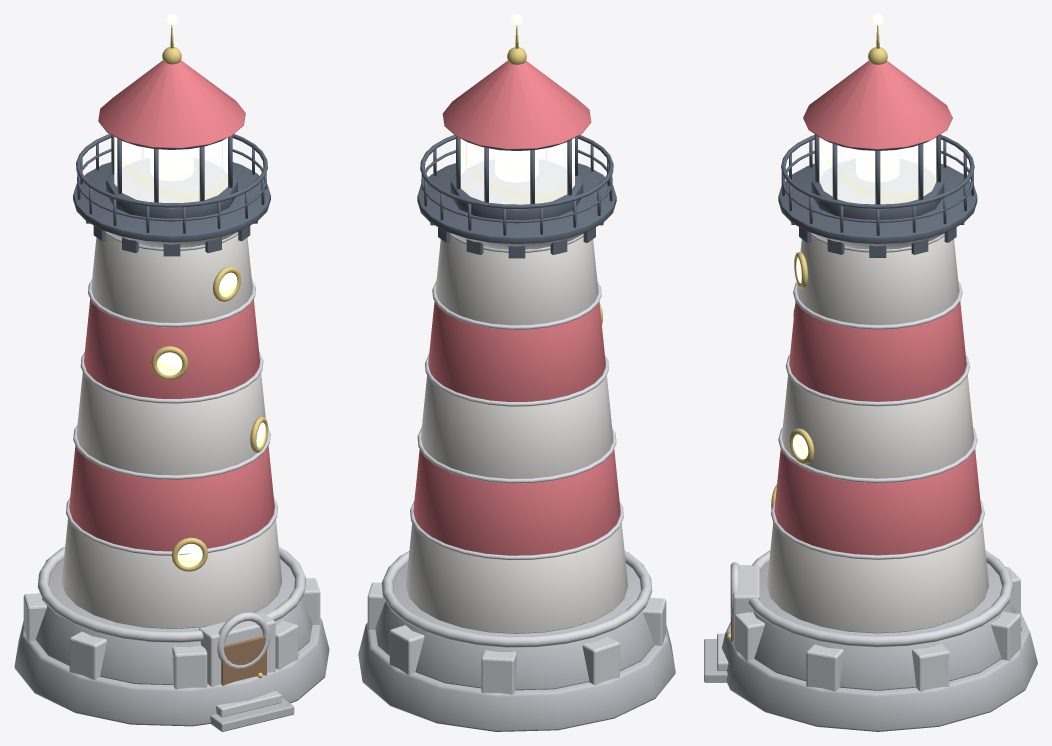
Rendered from hero_lighthouse.glb.
The picture shows the model from 3 angles, left to right: view 1: azimuth 30°, elevation 25°; view 2: azimuth 150°, elevation 25°; view 3: azimuth 270°, elevation 25°; orthographic projection.
Parts seen in each view (by area): view 1: Stripe_0, Stripe_1, Stripe_2, PlinthLow, Stripe_3, Stripe_4, CupolaDome, PlinthHigh, GalleryDeck, LanternGlass, PlinthCornice, DoorFrame (+19 smaller); view 2: Stripe_0, Stripe_1, Stripe_2, PlinthLow, Stripe_3, Stripe_4, PlinthHigh, CupolaDome, GalleryDeck, LanternGlass, PlinthCornice, LanternBase (+12 smaller); view 3: Stripe_0, Stripe_1, PlinthLow, Stripe_2, Stripe_3, Stripe_4, PlinthHigh, CupolaDome, LanternGlass, GalleryDeck, PlinthCornice, LanternBase (+13 smaller).
Boxes of the visible parts, x1,y1,x2,y2 form: Stripe_0: [61, 518, 282, 628]; Stripe_1: [69, 445, 274, 551]; Stripe_2: [76, 372, 265, 475]; PlinthLow: [14, 618, 329, 726]; Stripe_3: [84, 299, 259, 398]; Stripe_4: [91, 235, 252, 322]; CupolaDome: [98, 60, 245, 148]; PlinthHigh: [35, 559, 312, 684]; GalleryDeck: [73, 162, 270, 242]; LanternGlass: [114, 137, 227, 202]; PlinthCornice: [37, 546, 306, 642]; DoorFrame: [199, 613, 275, 687]; Stripe_0: [406, 523, 627, 633]; Stripe_1: [413, 449, 620, 555]; Stripe_2: [420, 375, 613, 478]; PlinthLow: [358, 622, 675, 731]; Stripe_3: [428, 301, 605, 401]; Stripe_4: [435, 236, 598, 325]; PlinthHigh: [375, 563, 654, 690]; CupolaDome: [442, 60, 591, 149]; GalleryDeck: [417, 163, 616, 243]; LanternGlass: [460, 138, 574, 204]; PlinthCornice: [381, 551, 652, 647]; LanternBase: [450, 174, 583, 223]; Stripe_0: [767, 523, 988, 633]; Stripe_1: [774, 449, 981, 555]; PlinthLow: [721, 613, 1037, 731]; Stripe_2: [781, 375, 973, 478]; Stripe_3: [789, 301, 966, 401]; Stripe_4: [796, 236, 959, 324]; PlinthHigh: [753, 563, 1021, 690]; CupolaDome: [803, 60, 952, 149]; LanternGlass: [819, 137, 936, 204]; GalleryDeck: [778, 163, 977, 243]; PlinthCornice: [748, 550, 1013, 647]; LanternBase: [811, 178, 944, 222].
Size of the model in its own units: 9.06 by 20.35 by 9.46.
